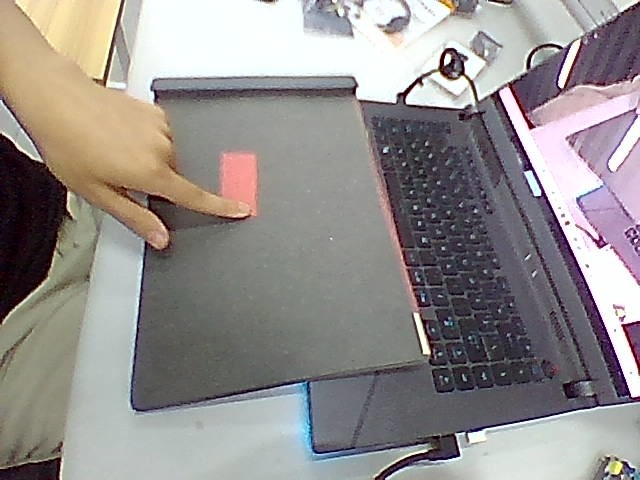card: (220, 152, 258, 216)
